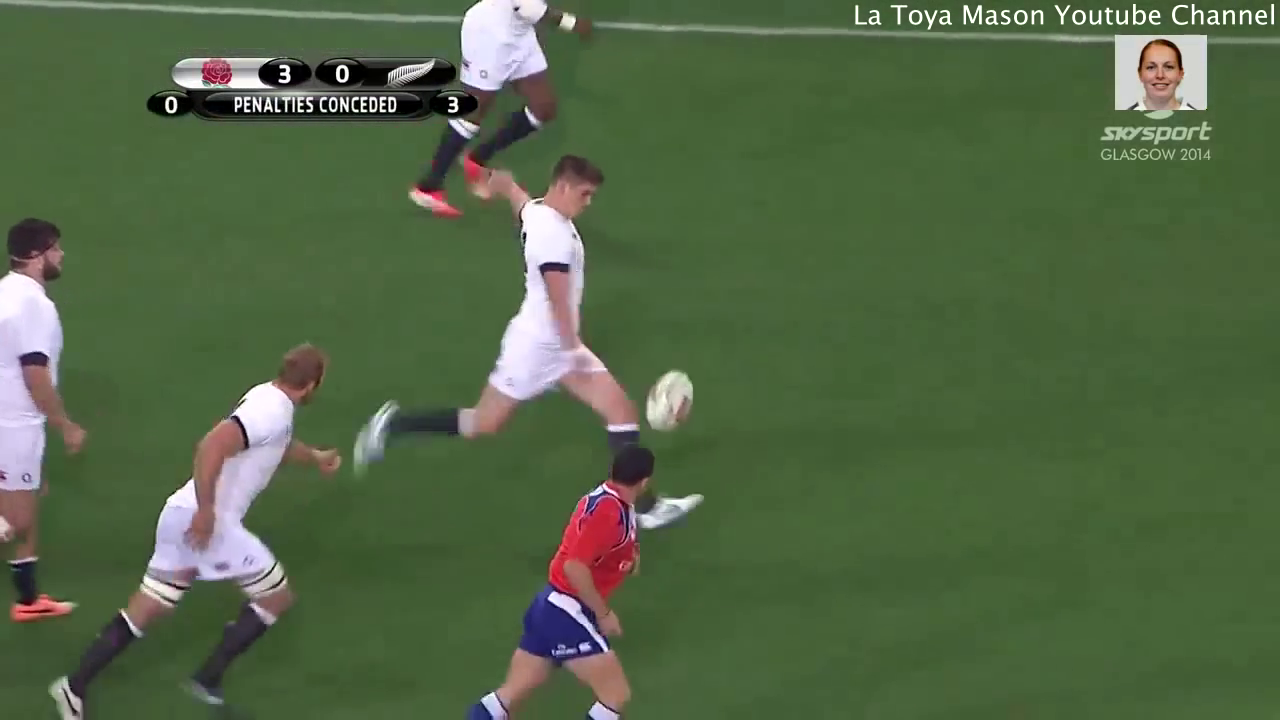ball: (635, 364, 704, 437)
player: (42, 332, 353, 720), (349, 141, 645, 486), (452, 443, 668, 720), (410, 1, 594, 216), (1, 217, 89, 626)
